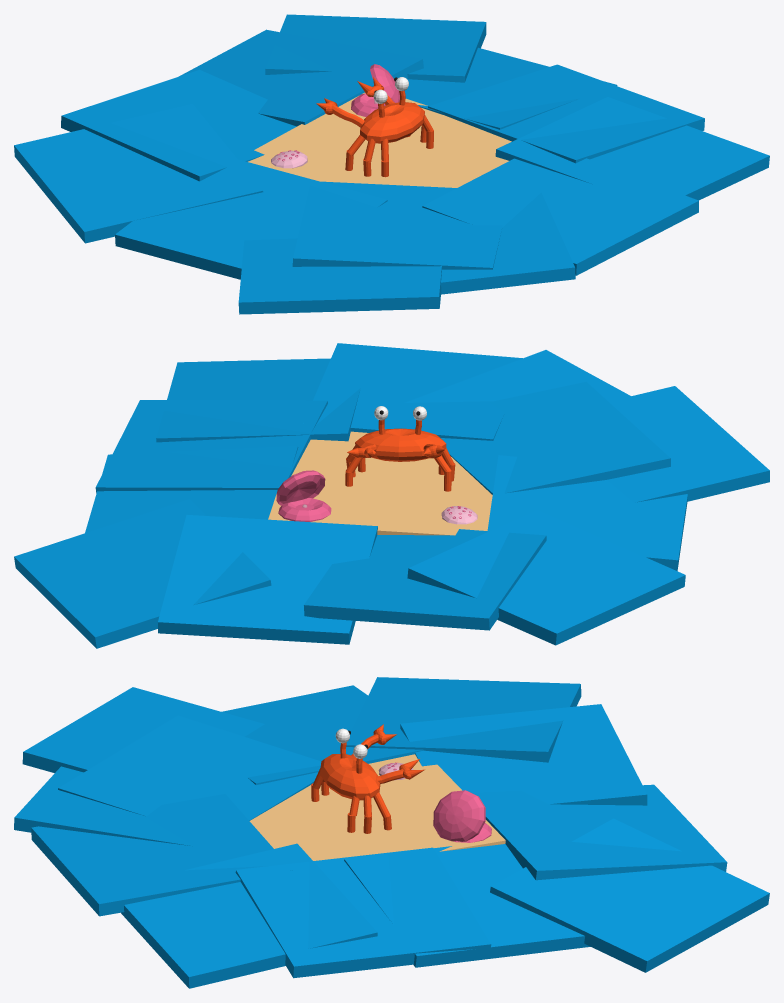
The model's file is Crab.glb.
3 renders of one model, top to bottom at view 1: azimuth 30°, elevation 25°; view 2: azimuth 150°, elevation 25°; view 3: azimuth 270°, elevation 25°, orthographic. The views are drawn at different scales.
Parts seen in each view (by area): view 1: group2037124682, group232989989, group1914574668, group1657419815, group1891658199, group27842914, group303246729, group1094342136, group906435993, group1438142498, group1339587797, group333031383 (+4 smaller); view 2: group1438142498, group2037124682, group1339587797, group1914574668, group1094342136, group303246729, group232989989, group1657419815, group906435993, group27842914, group1891658199, group1244723130 (+5 smaller); view 3: group1339587797, group303246729, group27842914, group232989989, group1914574668, group1094342136, group1438142498, group2037124682, group1657419815, group1244723130, group906435993, group1891658199 (+3 smaller).
Part boxes in pixels (x1,y1,x2,y2): group2037124682: (14,104,263,243); group232989989: (422,142,698,275); group1914574668: (292,181,502,269); group1657419815: (248,92,511,187); group1891658199: (115,159,387,279); group27842914: (495,97,769,200); group303246729: (428,64,704,163); group1094342136: (61,69,296,181); group906435993: (238,238,441,314); group1438142498: (179,29,423,126); group1339587797: (265,14,486,82); group333031383: (441,192,575,294); group1438142498: (157,515,377,644); group2037124682: (407,509,685,645); group1339587797: (14,499,271,648); group1914574668: (441,381,670,494); group1094342136: (304,529,546,630); group303246729: (95,400,327,493); group232989989: (303,343,522,440); group1657419815: (268,431,492,535); group906435993: (607,386,769,502); group27842914: (156,358,360,442); group1891658199: (487,455,687,570); group1244723130: (85,446,298,532); group1339587797: (490,818,769,972); group303246729: (235,847,491,978); group27842914: (121,843,377,988); group232989989: (31,794,292,916); group1914574668: (58,715,321,820); group1094342136: (400,704,647,805); group1438142498: (472,784,727,880); group2037124682: (346,677,581,762); group1657419815: (249,754,505,860); group1244723130: (344,844,590,967); group906435993: (22,687,264,773); group1891658199: (221,685,423,784).
Bounding box in the file's own units: 8.12 × 1.51 × 8.69.
